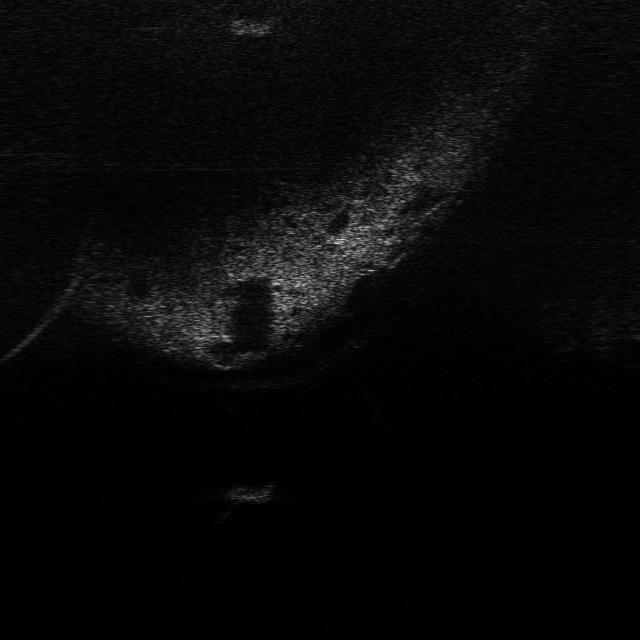ball: (342, 318, 377, 350)
cube: (217, 478, 281, 508)
